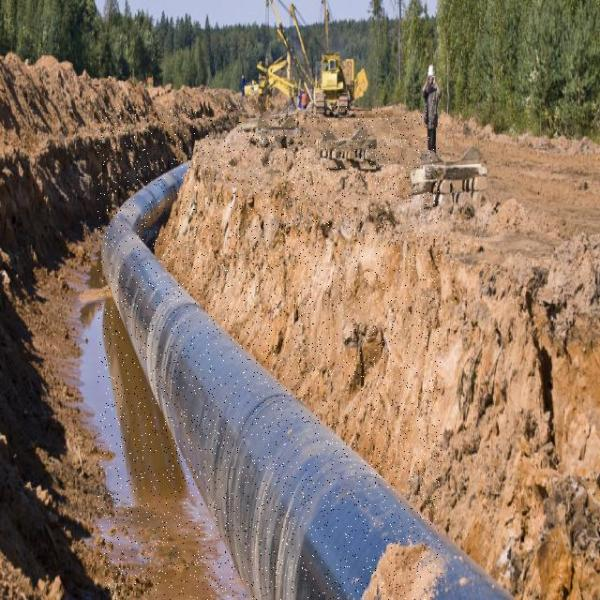no leak: (153, 315, 261, 419)
